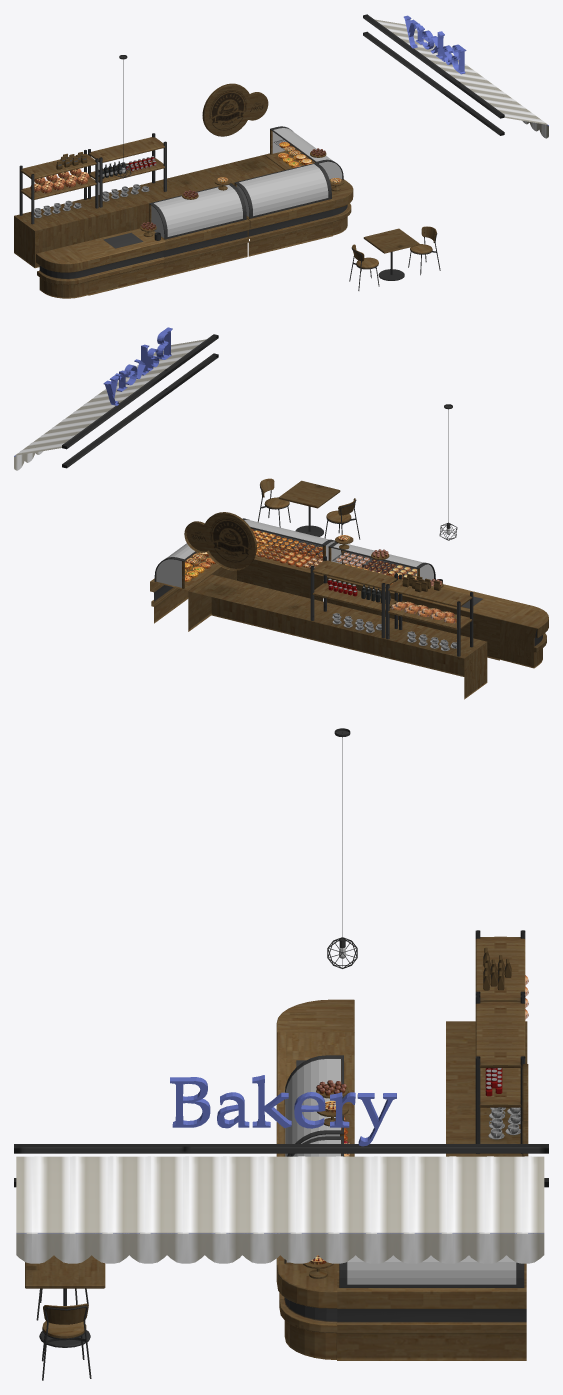
Rendered from Bakery.fbx.
The picture shows the model from 3 angles, top to bottom: view 1: azimuth 30°, elevation 25°; view 2: azimuth 150°, elevation 25°; view 3: azimuth 270°, elevation 25°; orthographic projection. The views are drawn at different scales.
Visible parts, largest first — view 1: Cube.018_furniture_0, Building 1.006_walls_0, Cube.035_furniture_0, Cube.028_furniture_0, Cube.062_furniture_0, Cube.194_glass_0, Cube.052_glass_0, Cylinder_details_0, Cube.031_furniture_0, Cylinder.004_furniture_0, Cube.023_furniture_0, Cube.061_furniture_0 (+5 smaller); view 2: Cube.018_furniture_0, Building 1.006_walls_0, Cylinder_details_0, Cube.062_furniture_0, Cube.023_furniture_0, Cube.035_furniture_0, Cube.031_furniture_0, Cube.204_furniture_0, Cylinder.004_furniture_0, Cube.061_furniture_0, Text.004_walls_0, Cube.028_furniture_0 (+3 smaller); view 3: Building 1.006_walls_0, Cube.204_furniture_0, Cube.023_furniture_0, Cube.203_furniture_0, Text.004_walls_0, Cube.018_furniture_0, Cylinder.004_furniture_0, Cube.218_glass_0, Cube.035_furniture_0, Cube.061_furniture_0, Cube.194_glass_0, Cube.031_furniture_0 (+2 smaller).
Boxes of the visible parts, x1,y1,x2,y2 form: Cube.018_furniture_0: (14, 155, 284, 268); Building 1.006_walls_0: (363, 14, 548, 138); Cube.035_furniture_0: (71, 228, 165, 295); Cube.028_furniture_0: (149, 183, 249, 277); Cube.062_furniture_0: (234, 162, 334, 256); Cube.194_glass_0: (151, 185, 242, 237); Cube.052_glass_0: (236, 164, 328, 216); Cylinder_details_0: (202, 83, 268, 136); Cube.031_furniture_0: (36, 245, 90, 298); Cylinder.004_furniture_0: (349, 226, 440, 290); Cube.023_furniture_0: (88, 133, 166, 207); Cube.061_furniture_0: (19, 150, 98, 224); Cube.018_furniture_0: (189, 574, 487, 699); Building 1.006_walls_0: (14, 334, 218, 470); Cylinder_details_0: (184, 512, 256, 570); Cube.062_furniture_0: (237, 518, 335, 601); Cube.023_furniture_0: (310, 556, 397, 638); Cube.035_furniture_0: (416, 584, 521, 660); Cube.031_furniture_0: (500, 603, 548, 668); Cube.204_furniture_0: (150, 551, 236, 631); Cylinder.004_furniture_0: (257, 478, 360, 539); Cube.061_furniture_0: (386, 574, 473, 656); Text.004_walls_0: (103, 327, 172, 405); Cube.028_furniture_0: (327, 541, 435, 624); Building 1.006_walls_0: (14, 1144, 548, 1263); Cube.204_furniture_0: (337, 1262, 526, 1360); Cube.023_furniture_0: (475, 995, 525, 1153); Cube.203_furniture_0: (276, 1264, 337, 1359); Text.004_walls_0: (170, 1075, 396, 1146); Cube.018_furniture_0: (446, 1021, 527, 1156); Cylinder.004_furniture_0: (25, 1255, 105, 1380); Cube.218_glass_0: (347, 1255, 516, 1284); Cube.035_furniture_0: (276, 1032, 354, 1103); Cube.061_furniture_0: (475, 930, 525, 1001); Cube.194_glass_0: (285, 1059, 340, 1156); Cube.031_furniture_0: (276, 999, 354, 1032).
Size of the model in its own units: 964 by 467 by 538.
